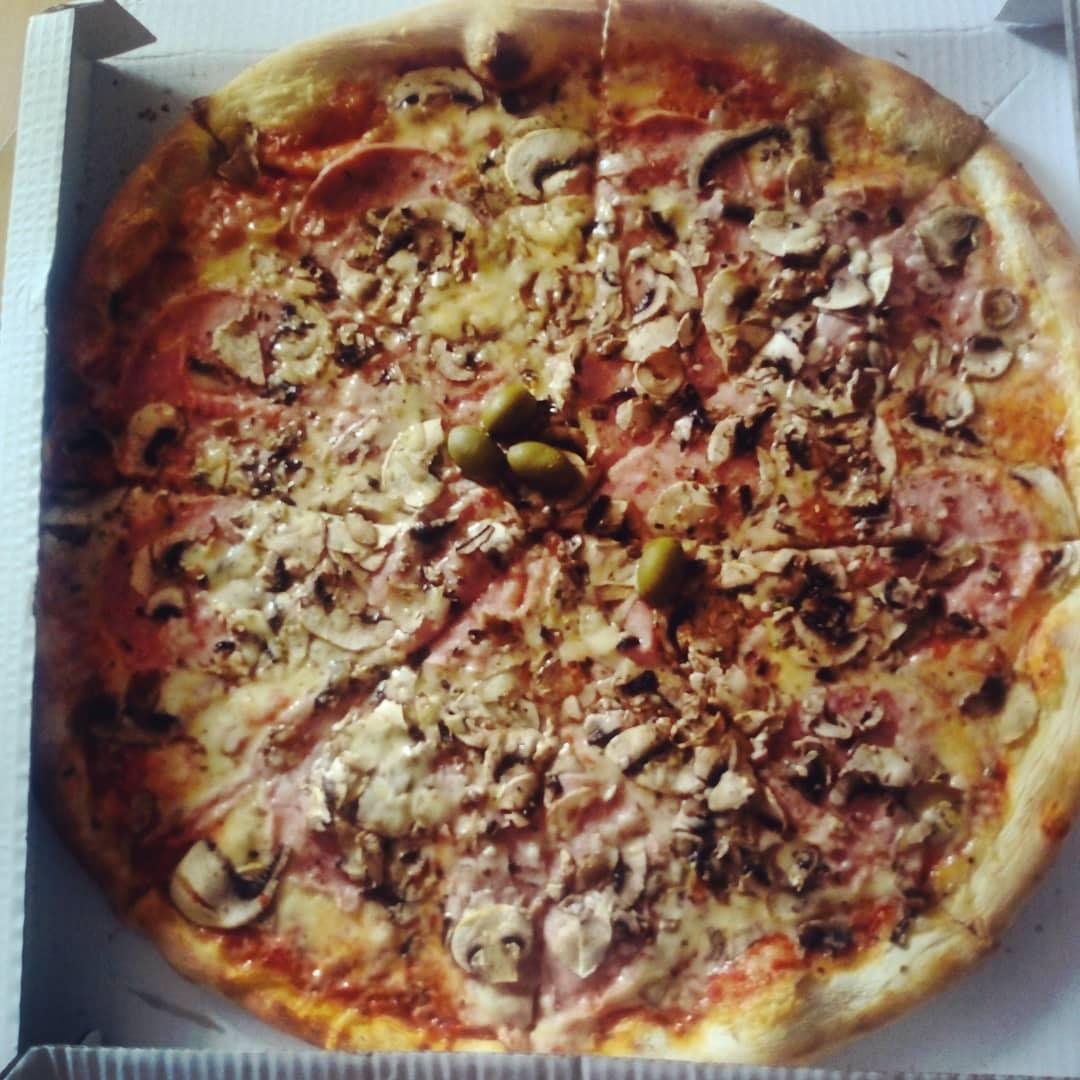Ham: (340, 702, 657, 1022), (791, 160, 987, 389), (757, 680, 937, 904), (88, 481, 282, 685), (239, 652, 392, 899), (586, 98, 770, 298), (825, 461, 1044, 625), (114, 282, 302, 473), (555, 344, 739, 538), (296, 136, 473, 215)
Mushroom: (554, 663, 733, 809), (434, 690, 620, 826), (750, 674, 912, 813), (730, 549, 872, 671), (163, 826, 301, 930), (582, 242, 704, 359), (368, 187, 503, 280), (434, 886, 544, 998), (743, 347, 885, 426), (215, 294, 338, 383), (808, 407, 905, 519), (674, 114, 798, 201), (284, 568, 406, 652), (376, 406, 462, 524), (107, 390, 196, 495), (809, 225, 905, 320), (499, 124, 602, 205), (539, 880, 619, 981), (684, 263, 753, 377), (957, 649, 1031, 753), (903, 351, 981, 445), (878, 559, 969, 639), (733, 203, 837, 270), (136, 525, 200, 629), (389, 65, 491, 120), (941, 323, 1023, 391), (906, 201, 984, 272), (970, 277, 1022, 325)
Olives: (471, 377, 545, 448), (631, 531, 695, 603), (439, 415, 503, 486), (504, 434, 574, 495)
Pizza: (0, 0, 1080, 1057)
